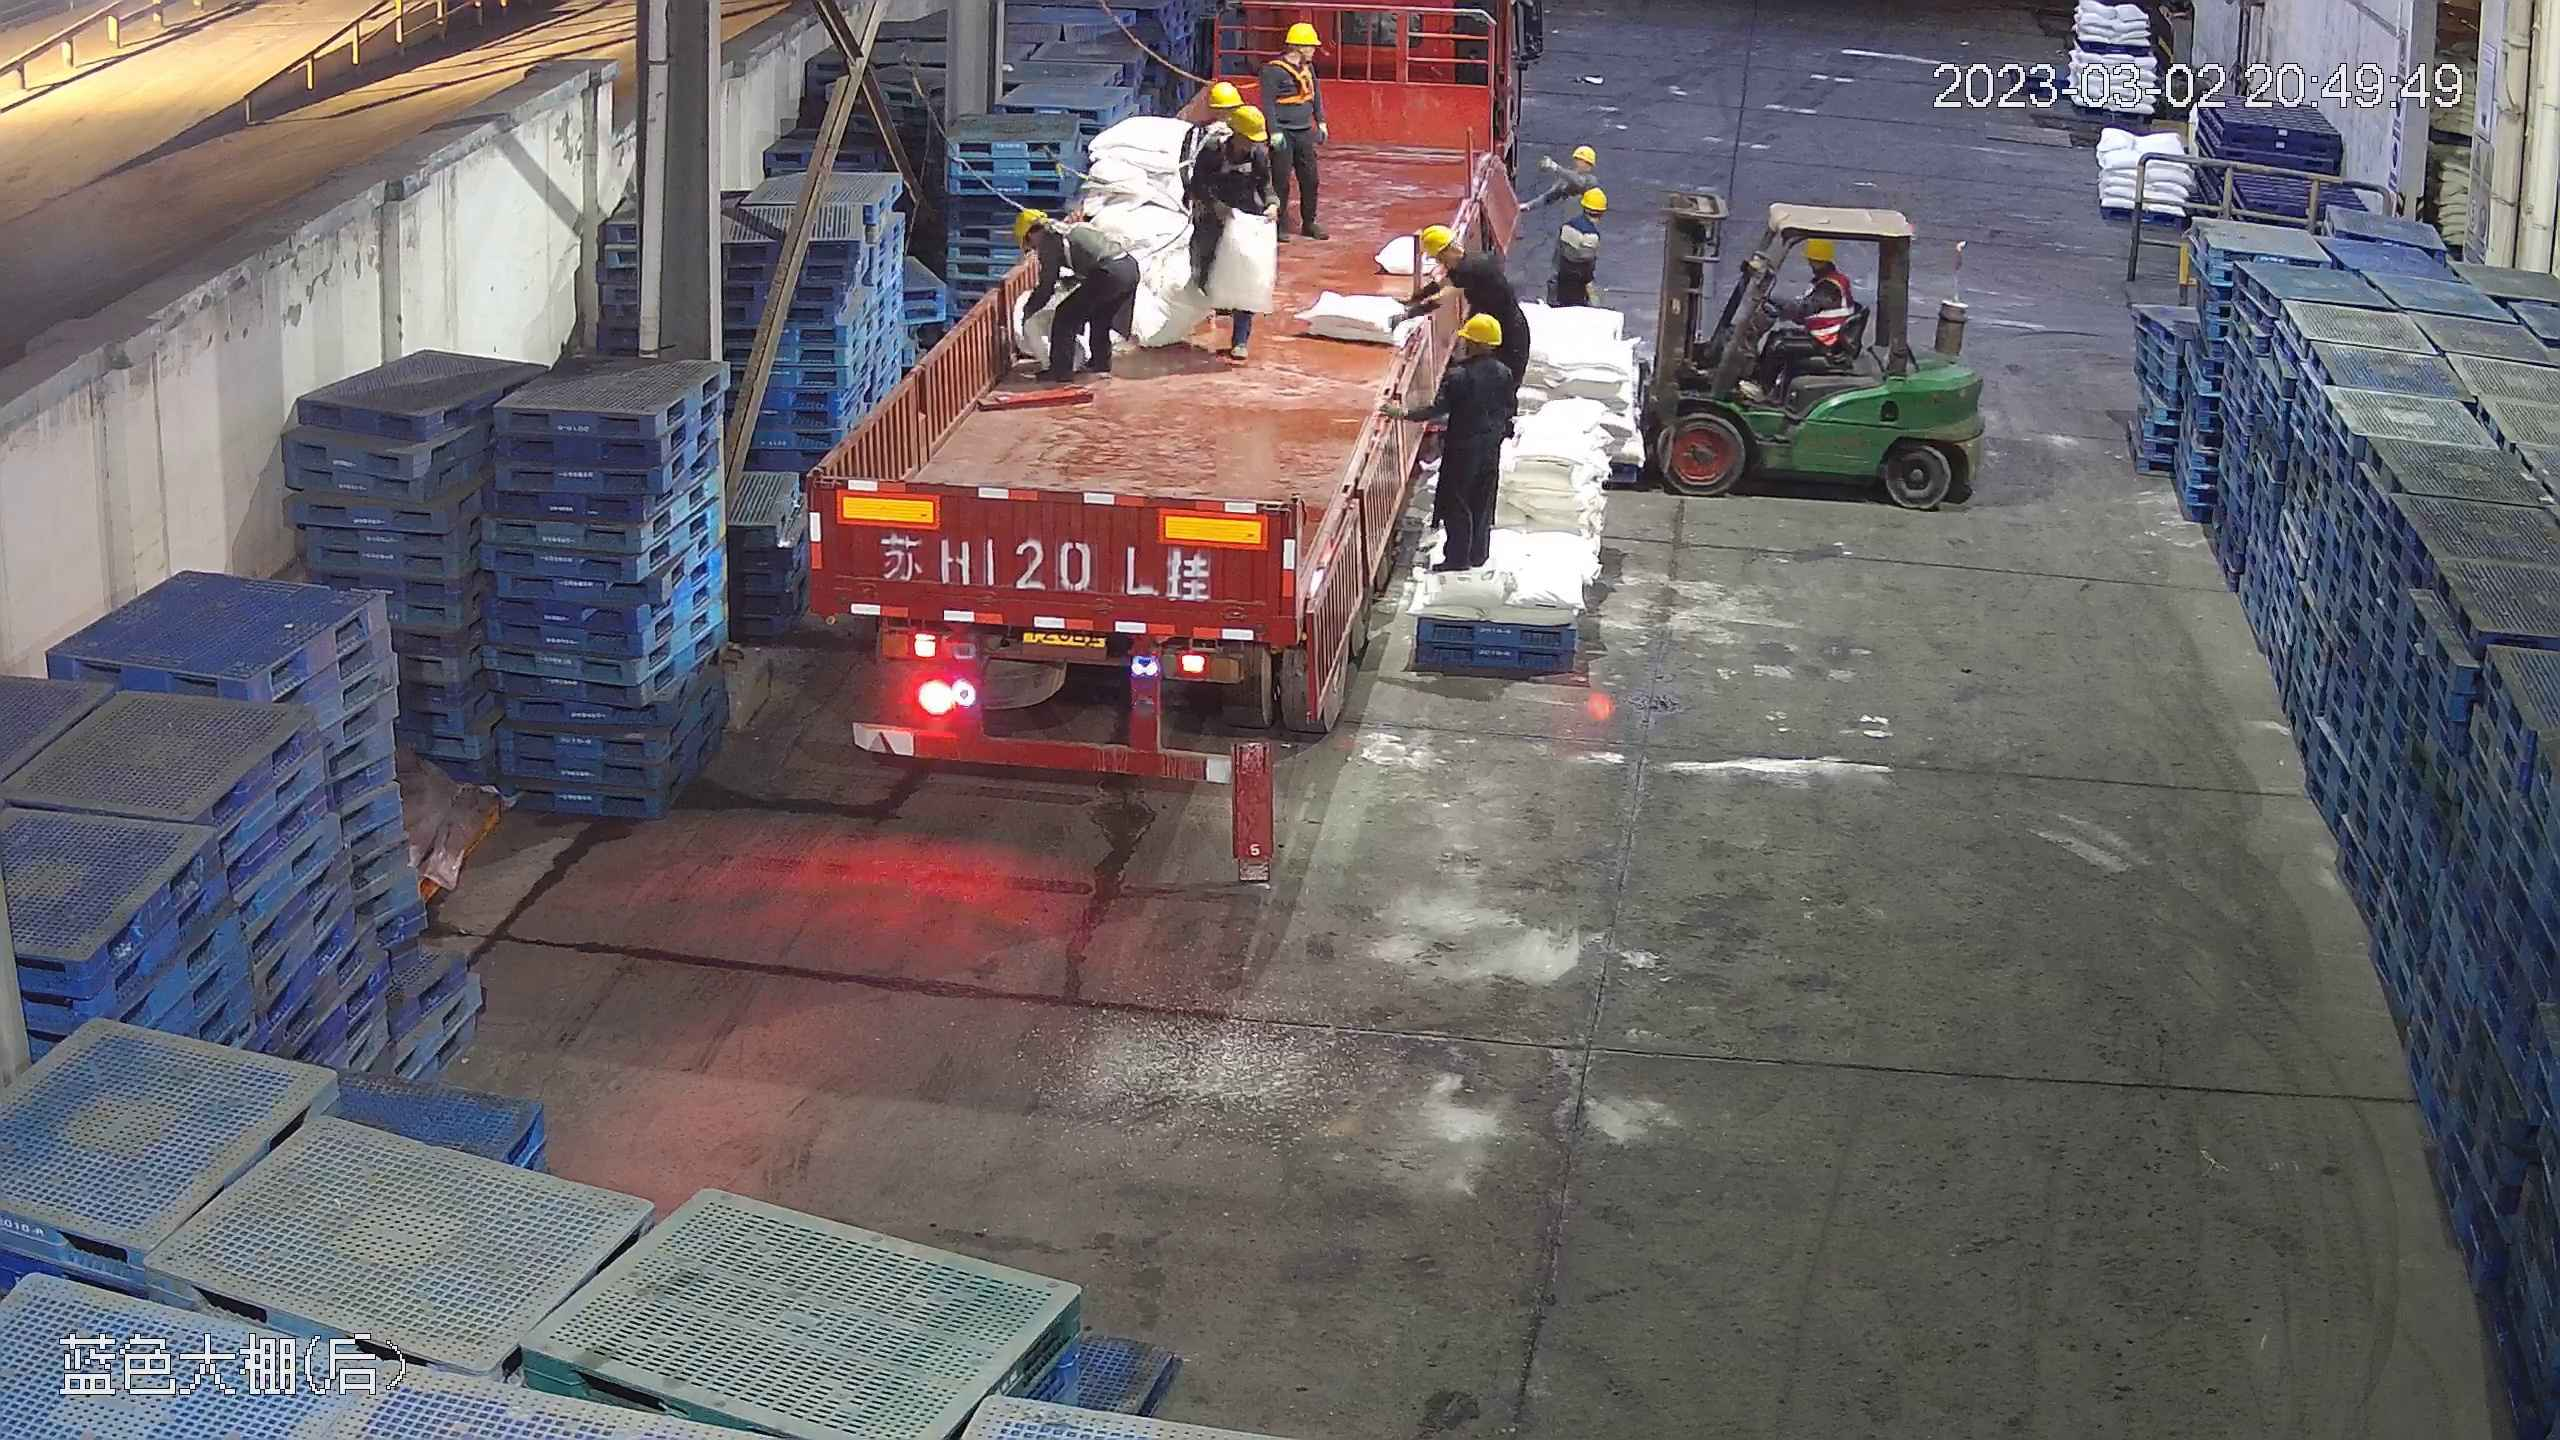belt: (1043, 208, 1099, 269), (1268, 54, 1320, 109), (1183, 120, 1215, 185), (1219, 142, 1255, 176)
head: (1414, 224, 1511, 313), (1441, 311, 1517, 398), (1193, 108, 1270, 190), (1265, 20, 1328, 91), (1013, 206, 1085, 269), (1795, 236, 1850, 306), (1553, 181, 1604, 240)
helmet: (1198, 80, 1241, 120), (1229, 104, 1267, 146), (1456, 314, 1502, 346), (1013, 206, 1048, 243), (1420, 223, 1457, 254), (1282, 20, 1319, 46), (1799, 235, 1834, 261), (1575, 187, 1600, 213), (1567, 145, 1595, 165)
people: (1172, 97, 1274, 340), (1005, 205, 1137, 381), (1427, 311, 1513, 574), (1741, 233, 1854, 393), (1254, 19, 1330, 246), (1546, 186, 1605, 323)
truck: (802, 24, 1503, 786)
